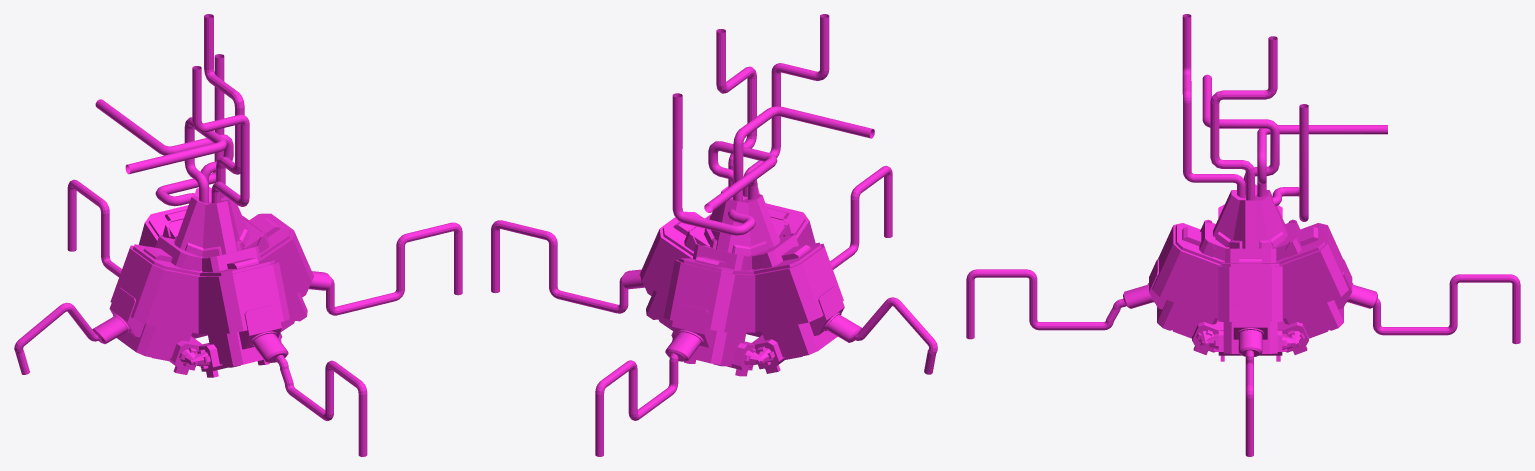
The model's file is terraformer_pipes.obj.
3 renders of one model, left to right at view 1: azimuth 30°, elevation 25°; view 2: azimuth 150°, elevation 25°; view 3: azimuth 270°, elevation 25°, orthographic. The views are drawn at different scales.
Parts seen in each view (by area): view 1: dogbot_Mesh, Plane.007_Plane.006, Plane.004, Plane.003_Plane.005, Plane.001, Plane.002, Plane.008_Plane.007, Plane, Plane.005_Plane.003, Plane.009_Plane.008; view 2: dogbot_Mesh, Plane.007_Plane.006, Plane.005_Plane.003, Plane.008_Plane.007, Plane.001, Plane.004, Plane, Plane.003_Plane.005, Plane.002, Plane.009_Plane.008; view 3: dogbot_Mesh, Plane.003_Plane.005, Plane.008_Plane.007, Plane.002, Plane.004, Plane, Plane.001, Plane.005_Plane.003, Plane.007_Plane.006.
Boxes of the visible parts, bbox=[...] form: dogbot_Mesh: bbox=[92, 187, 331, 377]; Plane.007_Plane.006: bbox=[326, 222, 462, 315]; Plane.004: bbox=[192, 66, 249, 206]; Plane.003_Plane.005: bbox=[275, 355, 367, 456]; Plane.001: bbox=[125, 117, 227, 203]; Plane.002: bbox=[204, 14, 244, 198]; Plane.008_Plane.007: bbox=[67, 179, 121, 277]; Plane: bbox=[95, 99, 233, 193]; Plane.005_Plane.003: bbox=[155, 54, 224, 206]; Plane.009_Plane.008: bbox=[14, 302, 99, 374]; dogbot_Mesh: bbox=[621, 186, 861, 376]; Plane.007_Plane.006: bbox=[491, 220, 628, 313]; Plane.005_Plane.003: bbox=[672, 93, 755, 235]; Plane.008_Plane.007: bbox=[595, 353, 678, 456]; Plane.001: bbox=[733, 106, 874, 199]; Plane.004: bbox=[743, 14, 829, 196]; Plane: bbox=[704, 141, 777, 212]; Plane.003_Plane.005: bbox=[830, 165, 892, 269]; Plane.002: bbox=[716, 29, 756, 187]; Plane.009_Plane.008: bbox=[854, 297, 937, 374]; dogbot_Mesh: bbox=[1123, 184, 1377, 361]; Plane.003_Plane.005: bbox=[966, 269, 1126, 339]; Plane.008_Plane.007: bbox=[1373, 274, 1520, 344]; Plane.002: bbox=[1210, 36, 1277, 200]; Plane.004: bbox=[1182, 14, 1245, 198]; Plane: bbox=[1257, 125, 1387, 196]; Plane.001: bbox=[1202, 74, 1279, 194]; Plane.005_Plane.003: bbox=[1272, 104, 1308, 221]; Plane.007_Plane.006: bbox=[1245, 350, 1253, 456].
Bounding box in the file's own units: 20.95 × 14.69 × 23.92.
